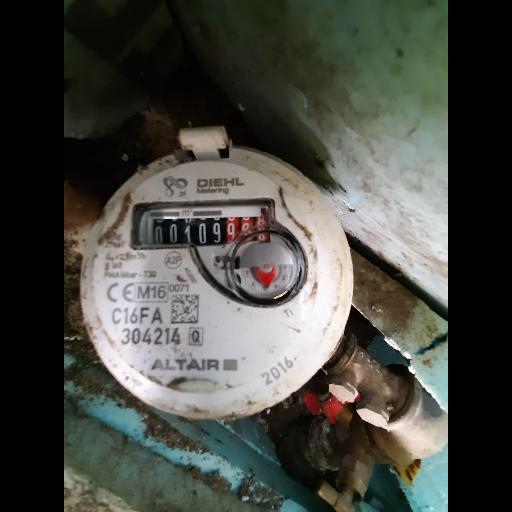0: (196, 217, 213, 247), (153, 219, 168, 245), (167, 218, 182, 244)
1: (181, 218, 198, 247)
8: (256, 209, 270, 242)
9: (211, 217, 228, 246), (240, 216, 257, 242), (225, 217, 241, 244)
border_water_meter_number: (130, 198, 279, 251)
